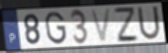3: (70, 8, 89, 47)
8: (23, 12, 42, 46)
G: (44, 10, 68, 45)
U: (136, 5, 163, 43)
V: (89, 7, 113, 44)
Z: (112, 6, 141, 44)
